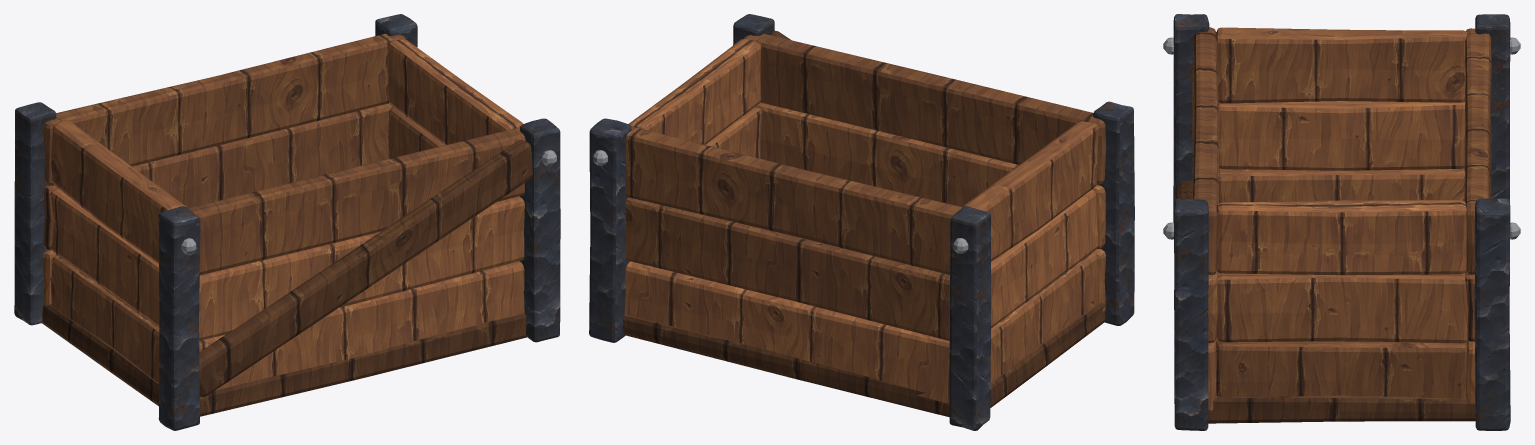
File: crate_ore.glb
The picture shows the model from 3 angles, left to right: view 1: azimuth 30°, elevation 25°; view 2: azimuth 150°, elevation 25°; view 3: azimuth 270°, elevation 25°; orthographic projection. The views are drawn at different scales.
Parts seen in each view (by area): view 1: model; view 2: model; view 3: model.
Part boxes in pixels (x1,y1,x2,y2): model: [14, 14, 560, 430]; model: [589, 14, 1134, 430]; model: [1163, 14, 1520, 430].
Bounding box in the file's own units: 0.9731 × 0.5048 × 0.7342.
6 materials, 5 textured.
